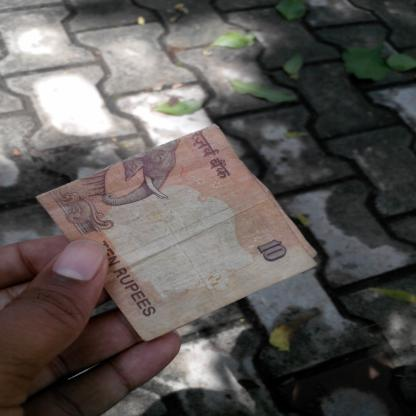Old10Back: (34, 123, 320, 344)
